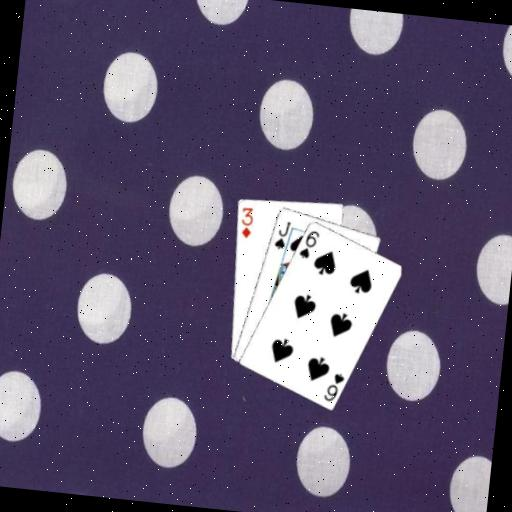3D: (236, 203, 256, 240)
6S: (321, 368, 347, 404), (296, 226, 321, 262)
JS: (271, 218, 292, 252)
